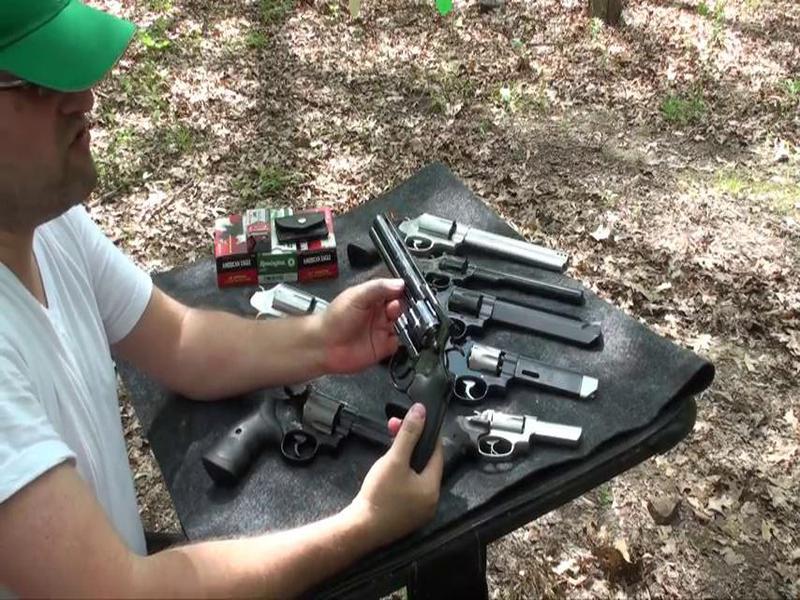Revolver: (328, 204, 459, 468)
